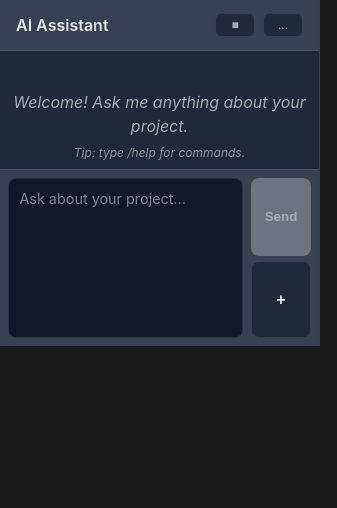
ChatPanel - Autopilot Features › Autopilot Control Buttons › renders stop/pause/resume buttons when autopilot is running
Type "Ship it" into the text box with test id "chat-input". click: (126,258)
box: [8,178,243,338]
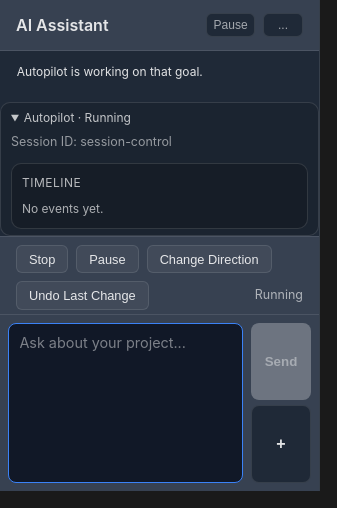
Result: the button with test id "autopilot-control-stop" is shown at [16,245,68,274]
Result: the button with test id "autopilot-control-pause" is shown
Click the button with test id "autopilot-control-pause". click: (107,259)
box: [76,245,139,274]
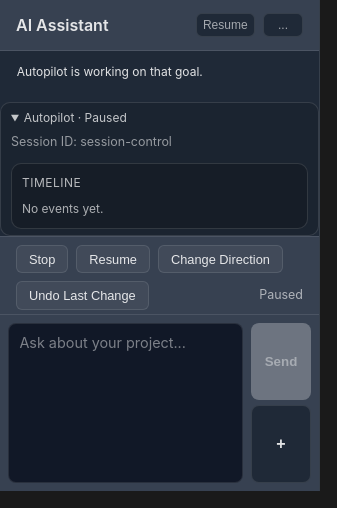
Result: the button with test id "autopilot-control-resume" is shown
Click the button with test id "autopilot-control-resume". click: (113,259)
box: [76,245,150,274]
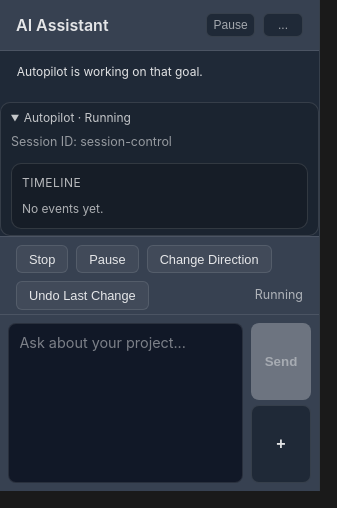
Click the button with test id "autopilot-control-change-direction". click: (209,259)
box: [147,245,272,274]
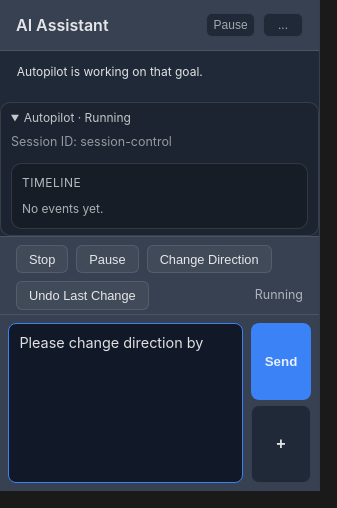
Result: the text box with test id "chat-input" holds "Please change direction by " at [8,323,243,483]
Click the button with test id "autopilot-control-undo-last-change". click: (82,296)
box: [16,282,149,310]
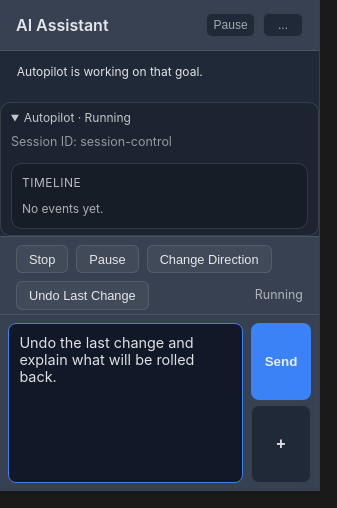
Result: the text box with test id "chat-input" holds "Undo the last change and explain what will be rolled back." at [8,323,243,483]
Click the button with test id "autopilot-control-stop". click: (42,259)
box: [16,245,68,274]
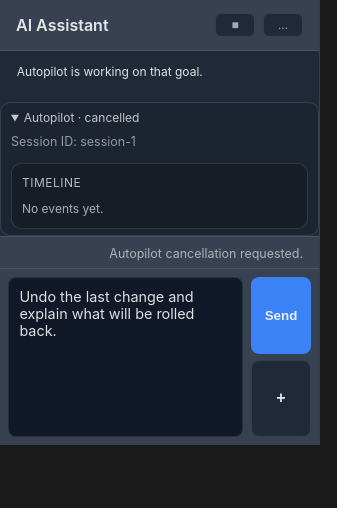
Result: the text with test id "autopilot-status-note" reads "Autopilot cancellation requested." at [109,246,303,261]
